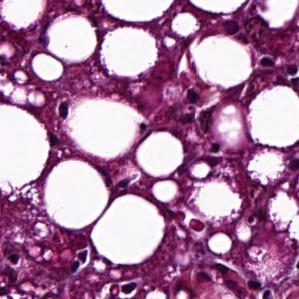steatosis: (95, 193, 168, 268), (60, 95, 141, 158), (42, 156, 109, 232), (246, 76, 299, 149), (189, 34, 254, 86), (100, 24, 160, 80), (43, 18, 105, 59), (136, 129, 186, 179), (196, 178, 245, 220), (23, 53, 67, 85), (208, 228, 235, 259)
